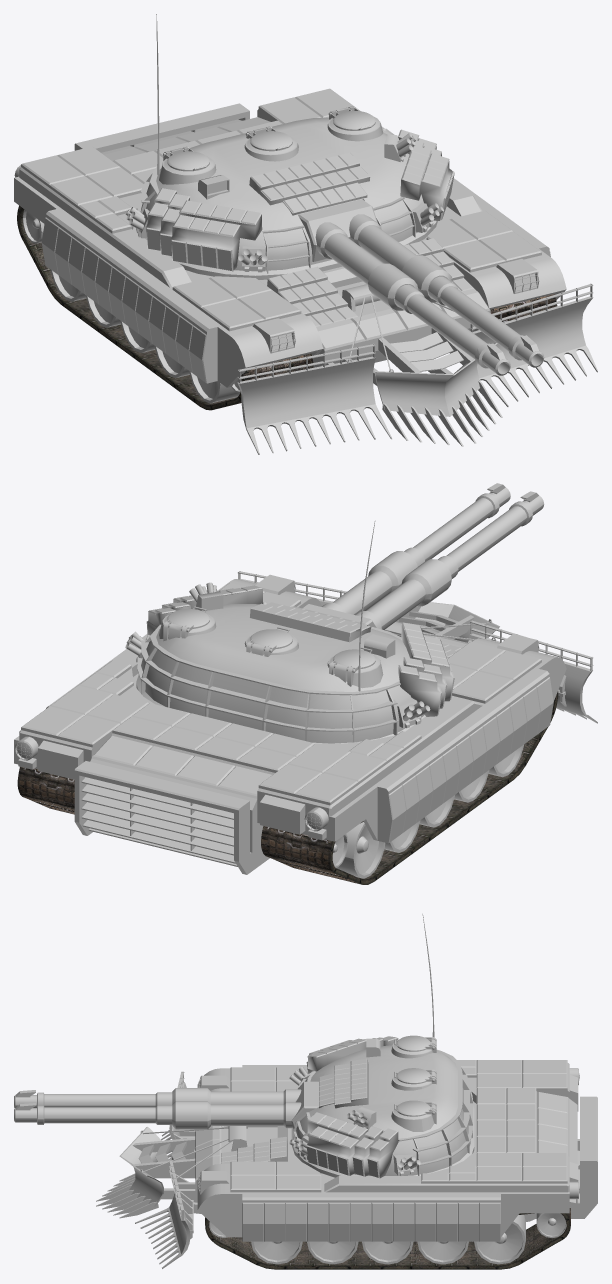
File: PlayerBigTank.FBX
3 views of the same model, one above another, from view 1: azimuth 30°, elevation 25°; view 2: azimuth 150°, elevation 25°; view 3: azimuth 270°, elevation 25° (orthographic). The views are drawn at different scales.
Visible parts, largest first — view 1: Body, Turret, Cannons, Antennae, Tracks, Wheels, TopCap; view 2: Body, Turret, Cannons, Tracks, Wheels, Antennae, TopCap; view 3: Body, Turret, Cannons, Wheels, Tracks, Antennae, TopCap.
Boxes of the visible parts, <box> form: Body: <box>14,88,597,454</box>; Turret: <box>125,106,454,279</box>; Cannons: <box>298,199,544,375</box>; Antennae: <box>146,14,452,271</box>; Tracks: <box>17,205,557,410</box>; Wheels: <box>22,209,241,403</box>; TopCap: <box>328,106,375,130</box>; Body: <box>14,571,597,874</box>; Turret: <box>125,582,454,743</box>; Cannons: <box>302,483,544,629</box>; Tracks: <box>17,691,558,884</box>; Wheels: <box>332,744,523,878</box>; Antennae: <box>147,520,453,716</box>; TopCap: <box>163,606,209,632</box>; Body: <box>96,1060,597,1268</box>; Turret: <box>289,1035,474,1178</box>; Cannons: <box>14,1081,318,1129</box>; Wheels: <box>209,1213,566,1264</box>; Tracks: <box>205,1208,570,1269</box>; Antennae: <box>307,913,434,1178</box>; TopCap: <box>394,1100,434,1116</box>.
Bounding box in the file's own units: 29977 × 25457 × 53352.
